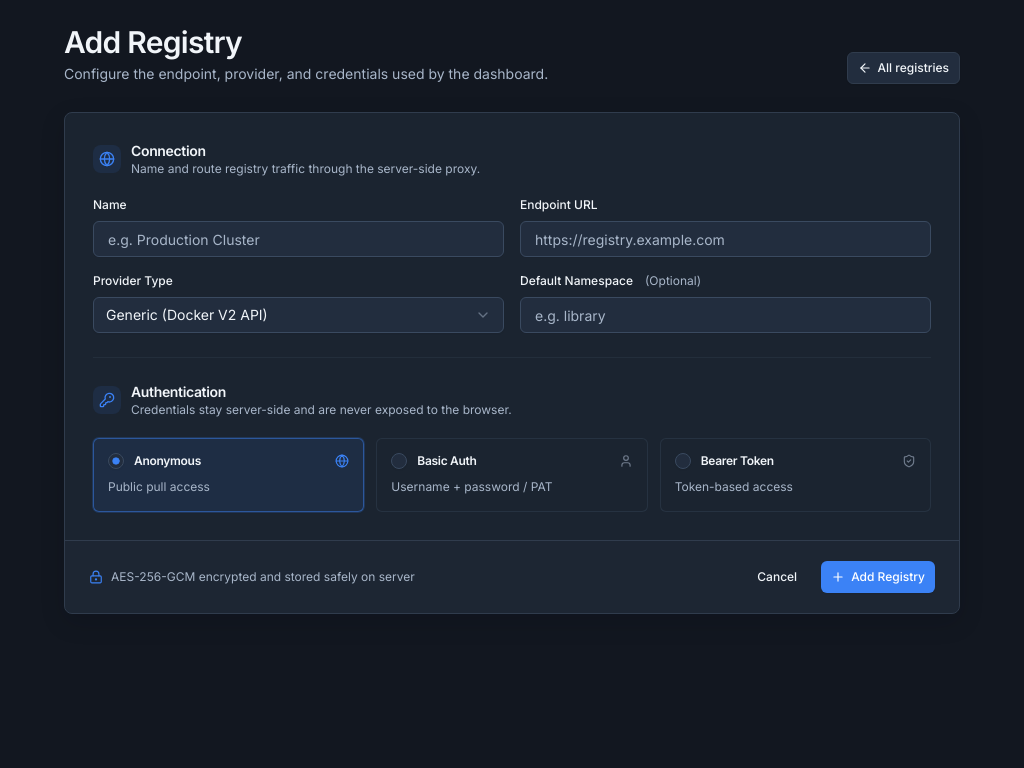
Test: RegistryForm › validates required basic auth fields on submit
Click the radio button named "Basic Auth": point(399, 461) [391,453,407,469]
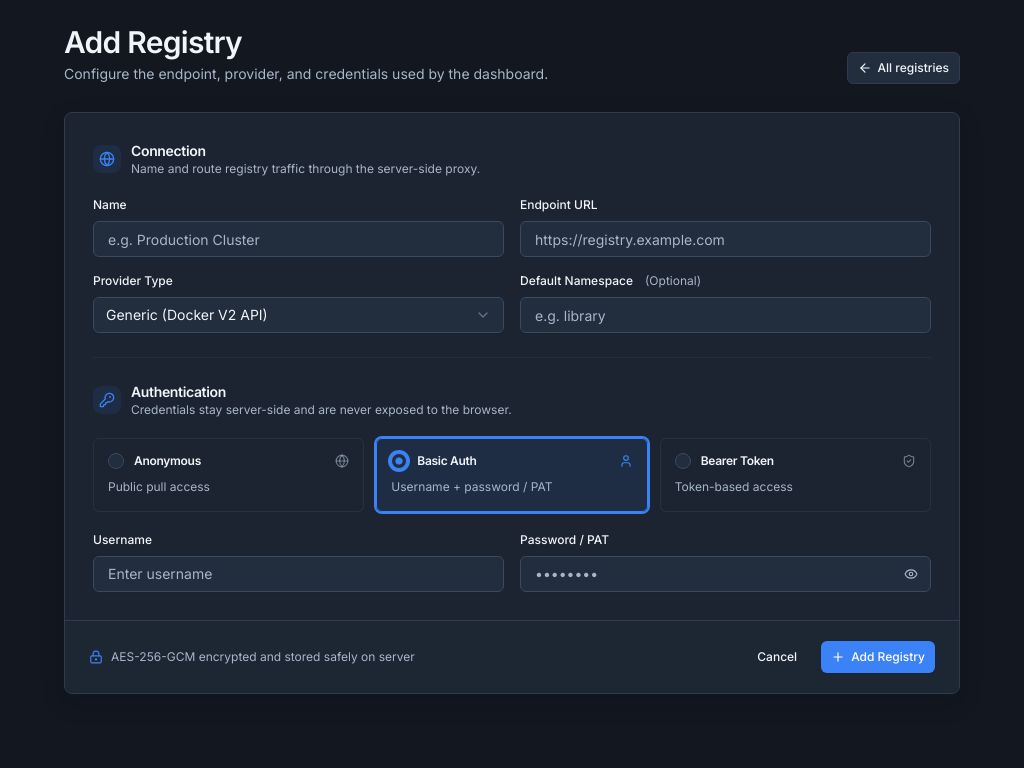
Click the button "Add Registry": point(878, 656) [821,640,935,672]
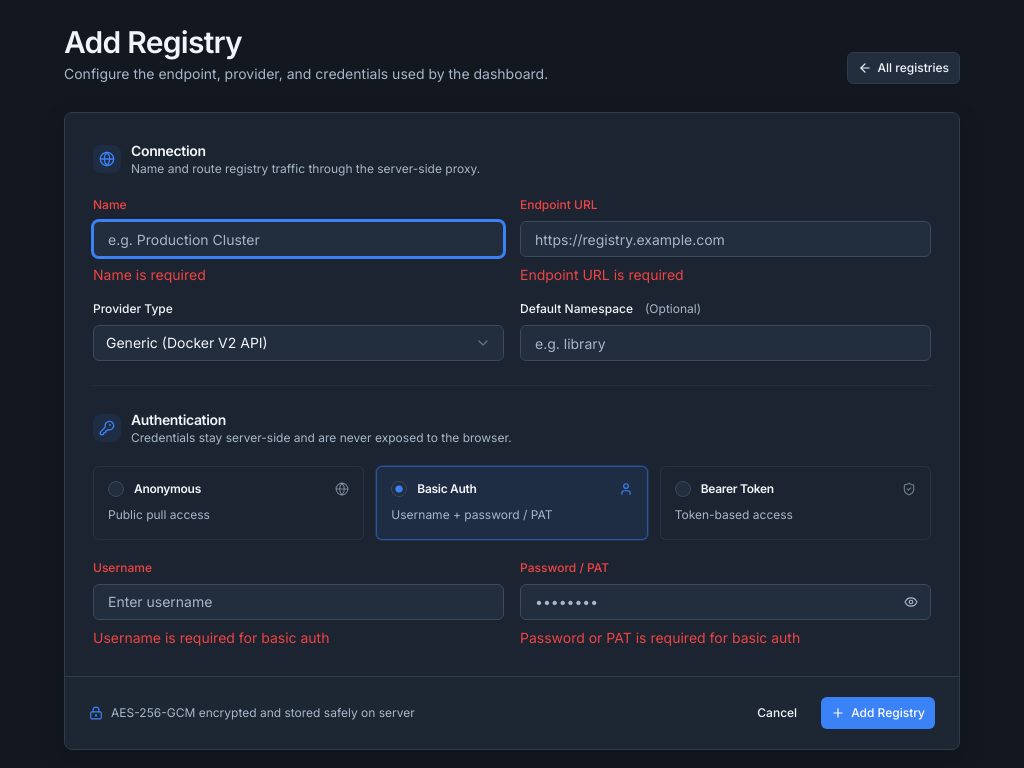
Now the text "Name is required" is shown, box [93,266,206,283]
Now the text "Endpoint URL is required" is shown, box [520,266,684,283]
Now the text "Username is required for basic auth" is shown, box [93,628,330,646]
